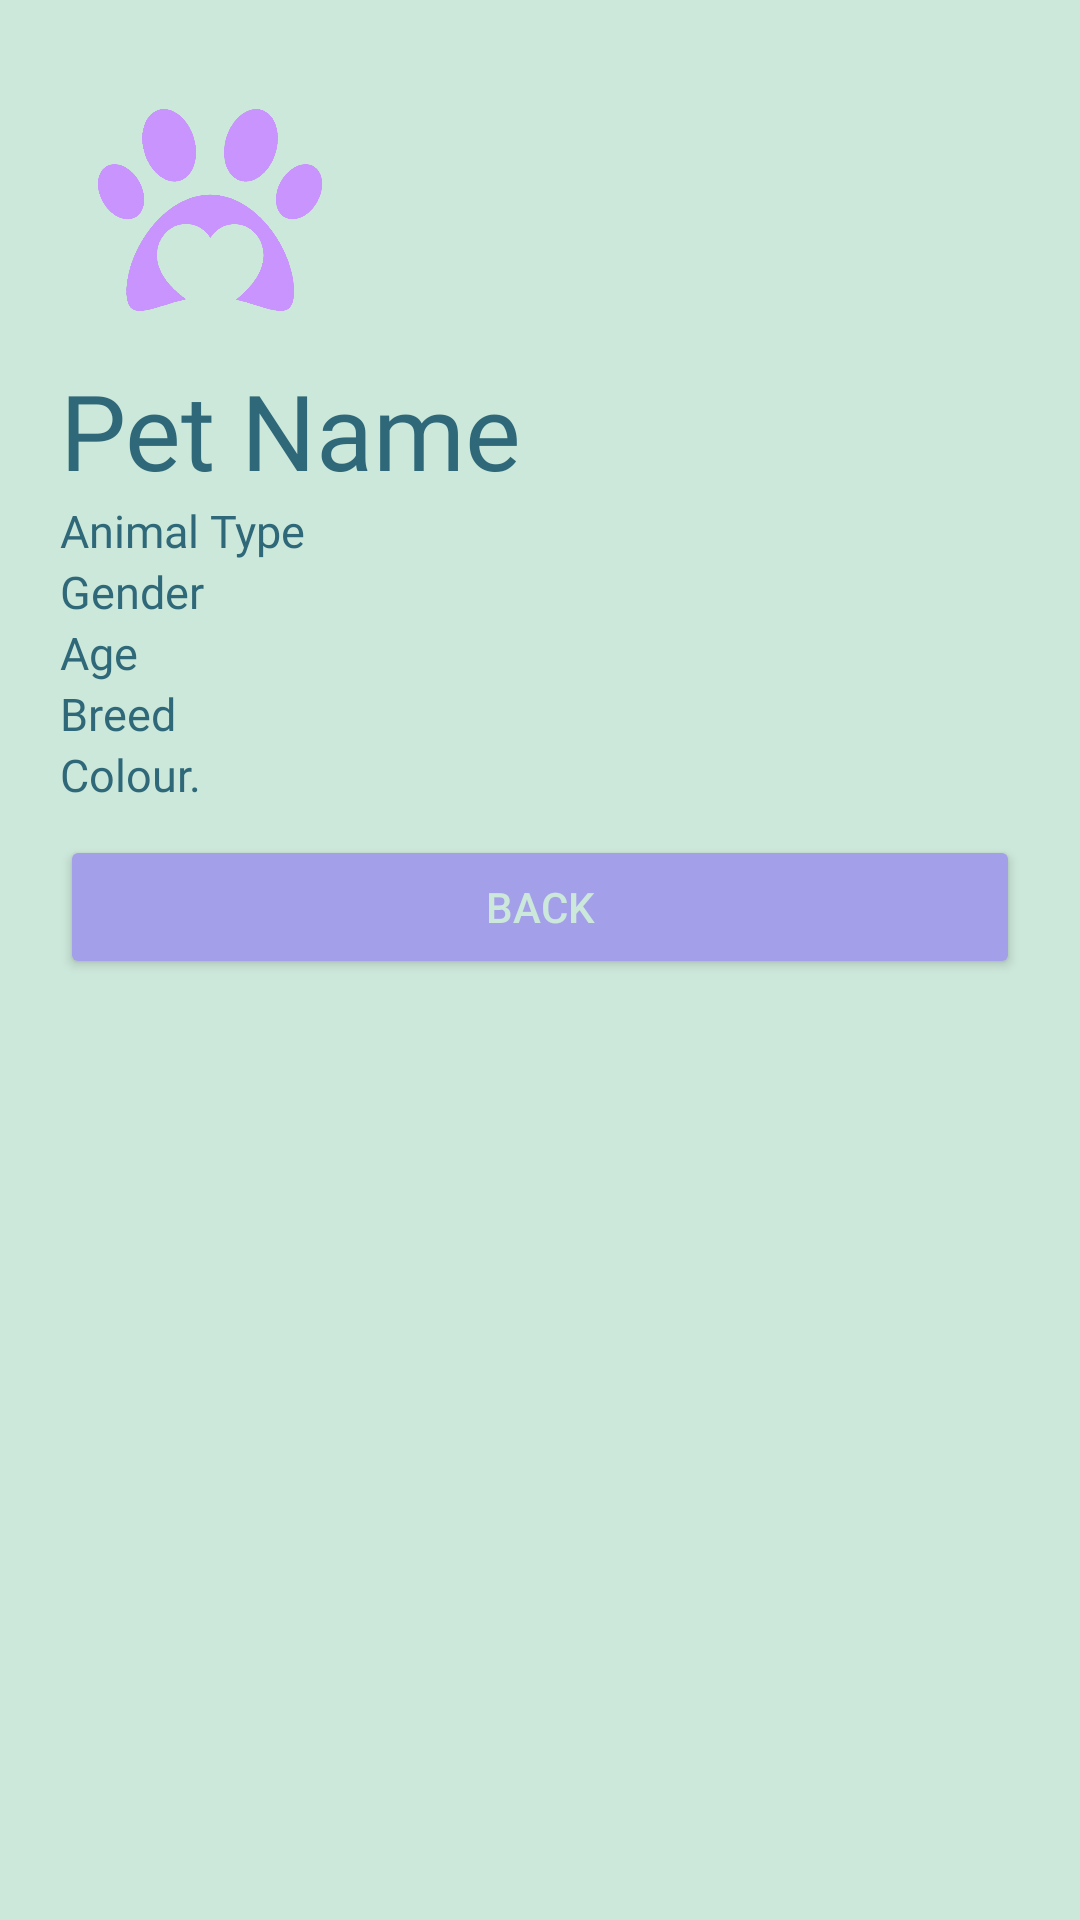

Screen size 1080w x 1920h. Icon name, then its center in pixels as point (x, y):
paw: point (210, 210)
